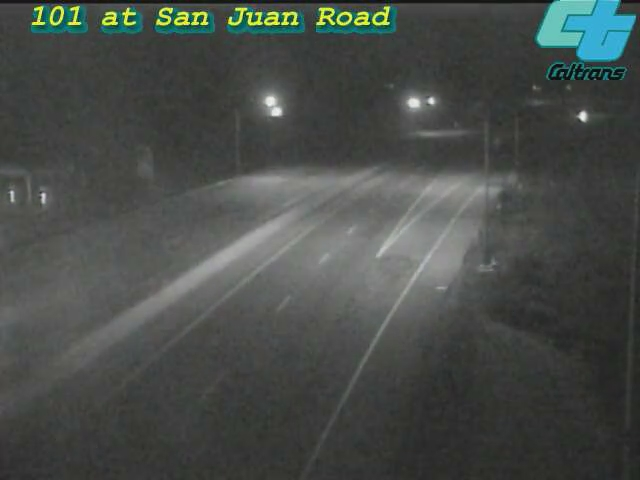vehicle: (28, 230, 108, 310), (556, 90, 606, 140)
